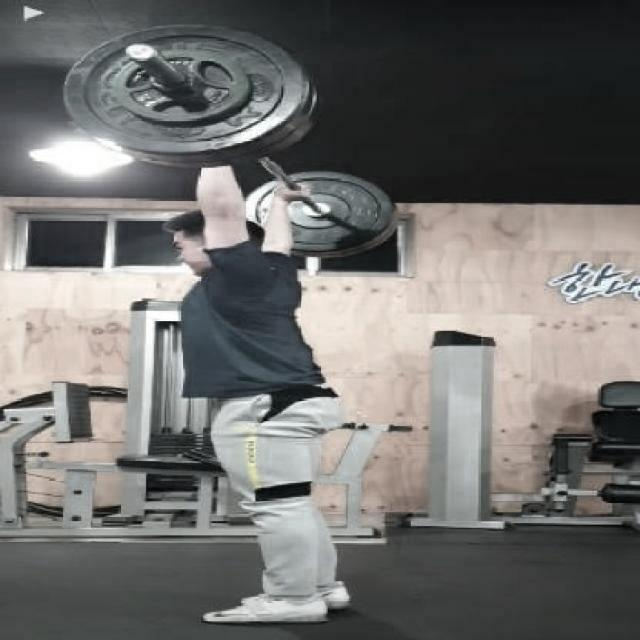barbell: (55, 17, 313, 162)
